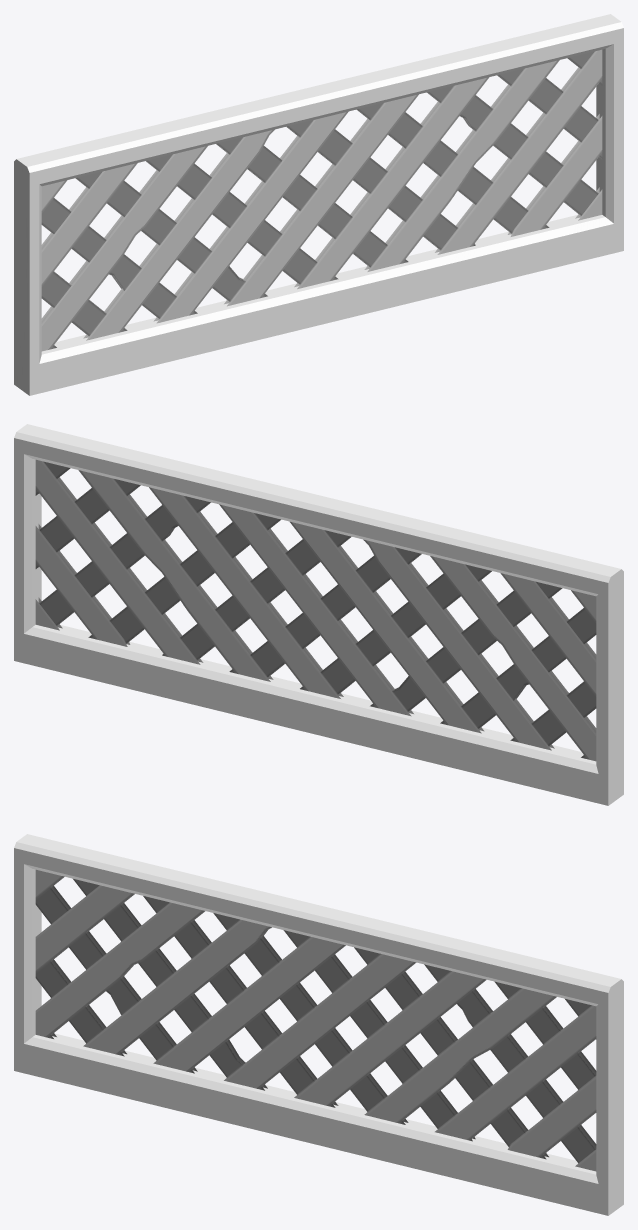
File: SM_Bld_Villa_Railing_01.obj
3 renders of one model, top to bottom at view 1: azimuth 30°, elevation 25°; view 2: azimuth 150°, elevation 25°; view 3: azimuth 330°, elevation 25°, orthographic.
Visible parts, largest first — view 1: SM_Bld_Villa_Railing_01_0, SM_Bld_Villa_Railing_01_1; view 2: SM_Bld_Villa_Railing_01_0, SM_Bld_Villa_Railing_01_1; view 3: SM_Bld_Villa_Railing_01_0, SM_Bld_Villa_Railing_01_1.
Part boxes in pixels (box(x1,y1,x2,y2)): SM_Bld_Villa_Railing_01_0: box(41, 49, 602, 351); SM_Bld_Villa_Railing_01_1: box(14, 14, 623, 395); SM_Bld_Villa_Railing_01_0: box(35, 459, 596, 761); SM_Bld_Villa_Railing_01_1: box(14, 424, 623, 805); SM_Bld_Villa_Railing_01_0: box(35, 869, 596, 1171); SM_Bld_Villa_Railing_01_1: box(14, 834, 623, 1215).
Size of the model in its own units: 2.5 by 0.9133 by 0.1134.
2 materials, 1 textured.
